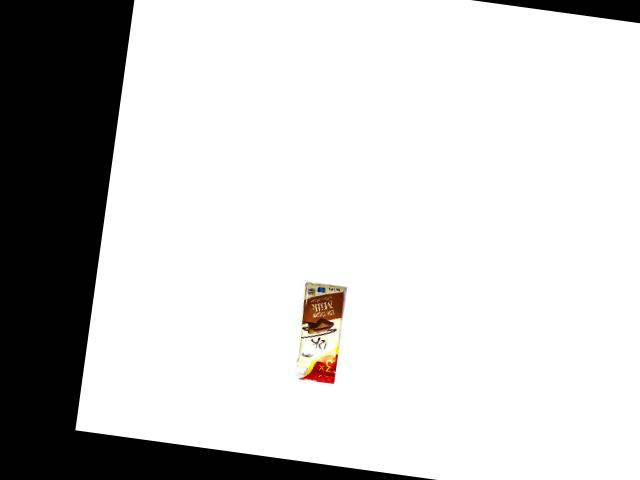chocolate: (290, 283, 350, 386)
